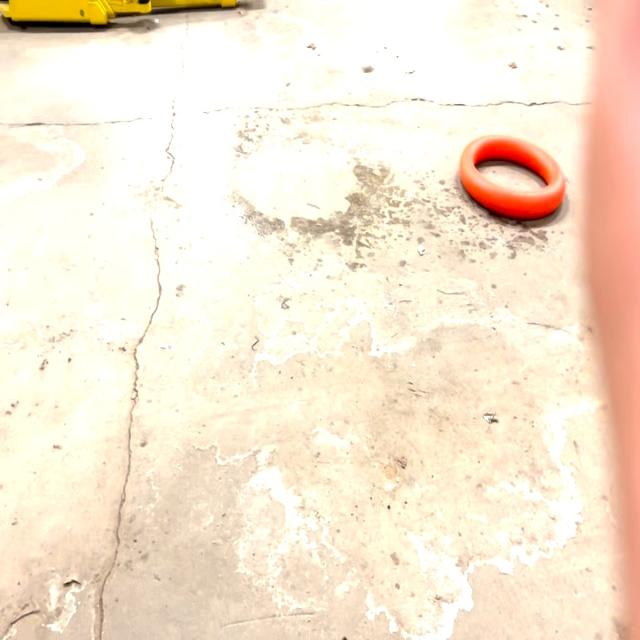note: (456, 140, 569, 215)
